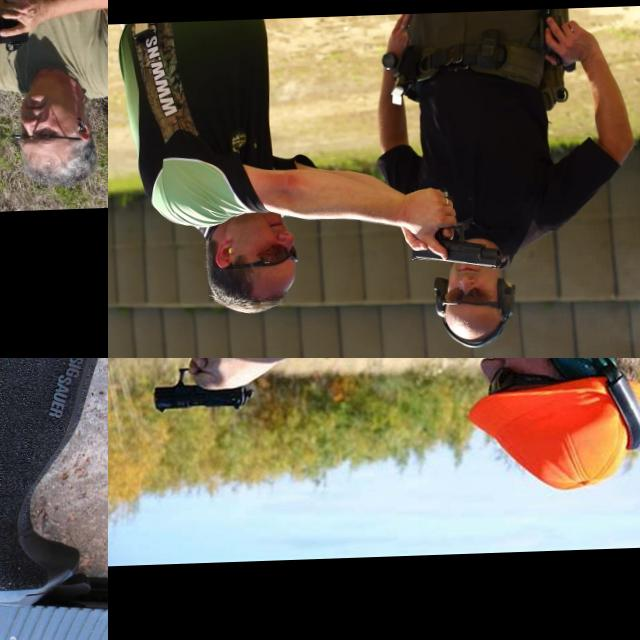handgun: (0, 358, 108, 640), (147, 363, 255, 416), (406, 220, 504, 274), (0, 104, 31, 148), (0, 13, 29, 53)
